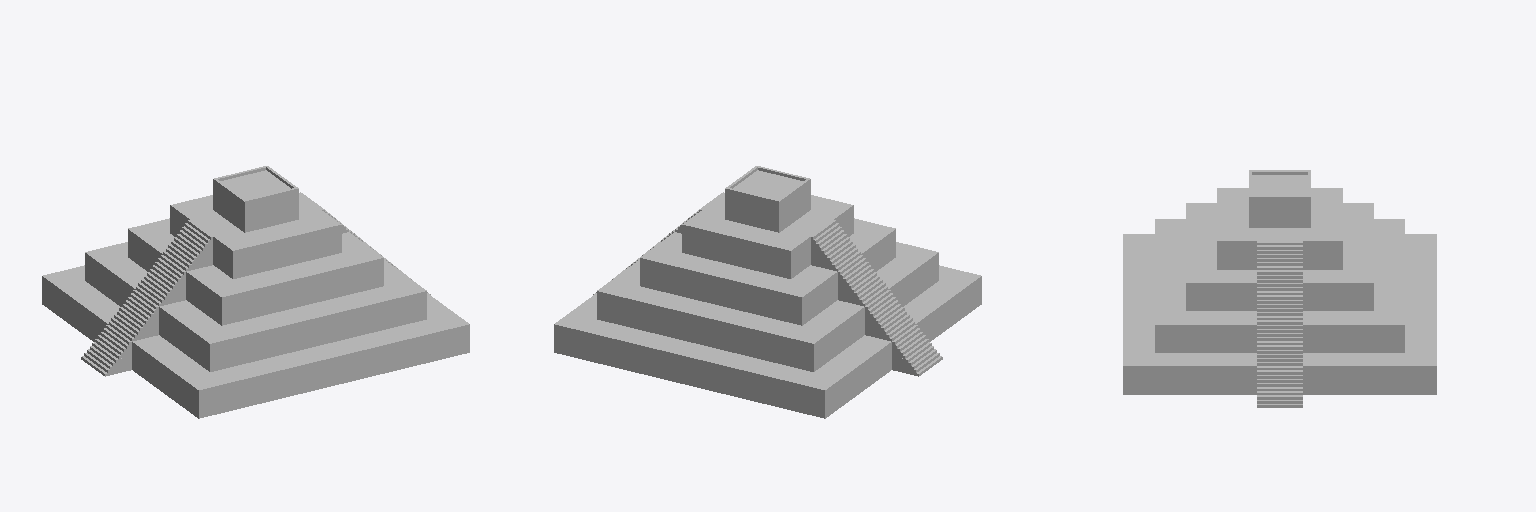
Rendered from temple_recent working.obj.
3 renders of one model, left to right at view 1: azimuth 30°, elevation 25°; view 2: azimuth 150°, elevation 25°; view 3: azimuth 270°, elevation 25°, orthographic.
Bounding box in the file's own units: 24 × 10.2 × 20.